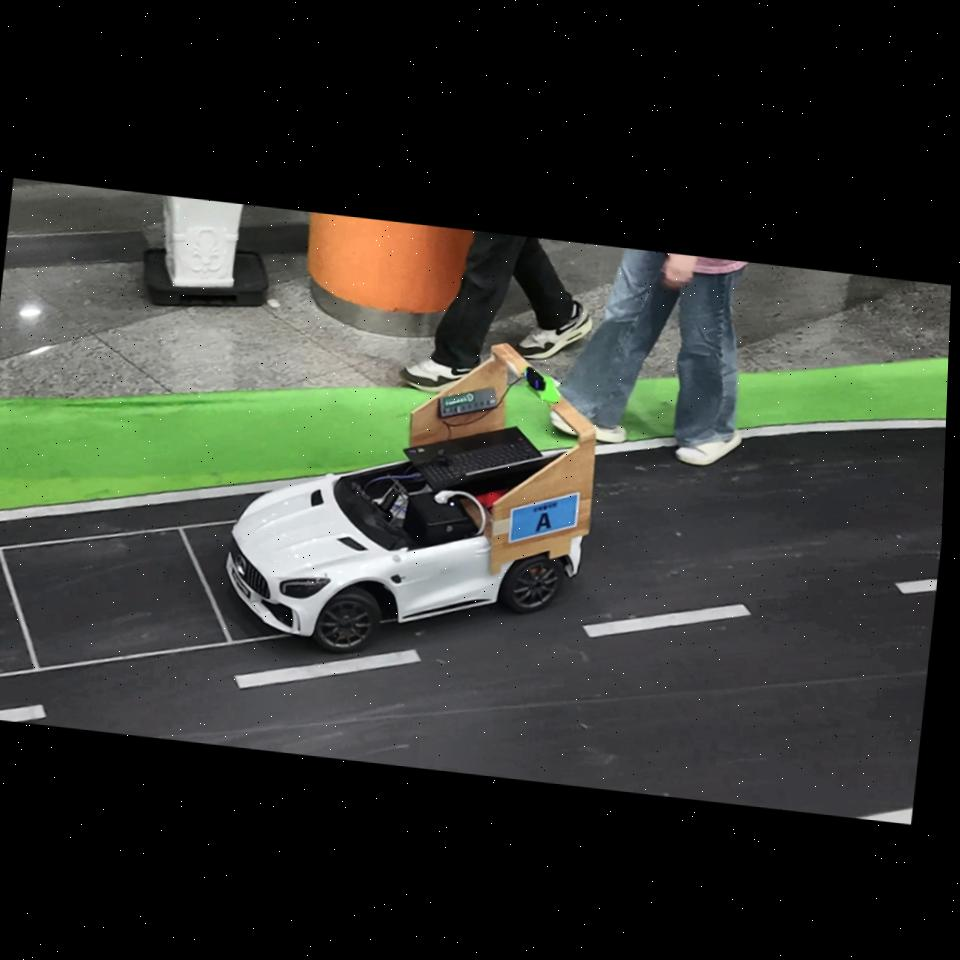broken_line: (234, 650, 420, 689), (583, 604, 751, 638), (0, 705, 46, 722), (895, 579, 937, 594)
